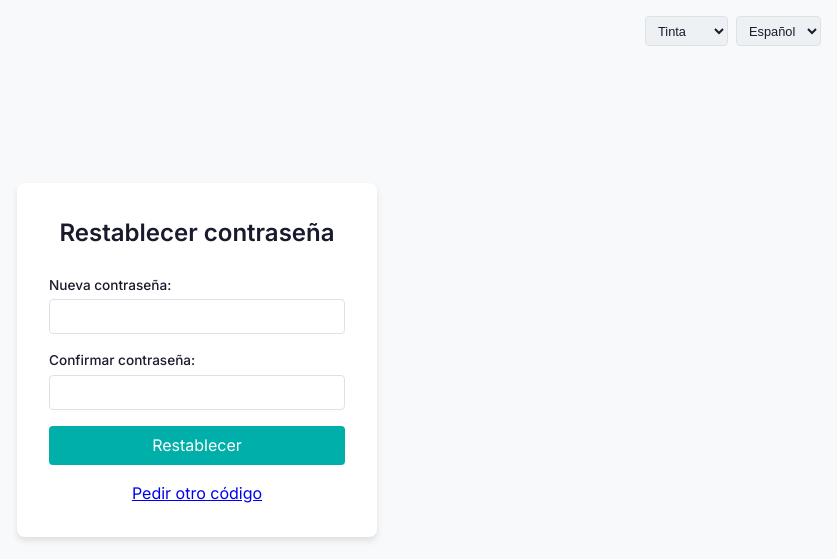
ResetPasswordPage › shows expired token error when verify returns expired message
Type "newpass9" into the password field labelled "Nueva contraseña:". click: point(197, 317)
box: top-left (49, 299), bottom-right (345, 334)
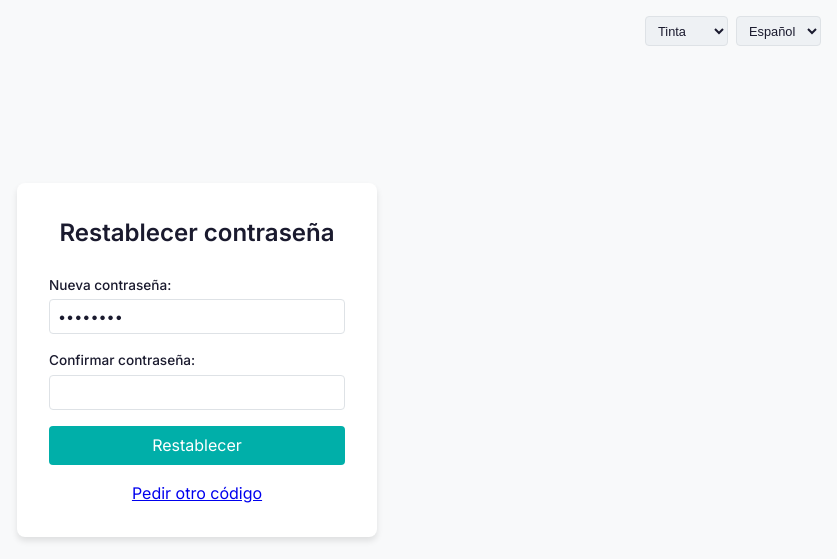
Type "newpass9" into the password field labelled "Confirmar contraseña:". click: point(197, 392)
box: top-left (49, 375), bottom-right (345, 410)
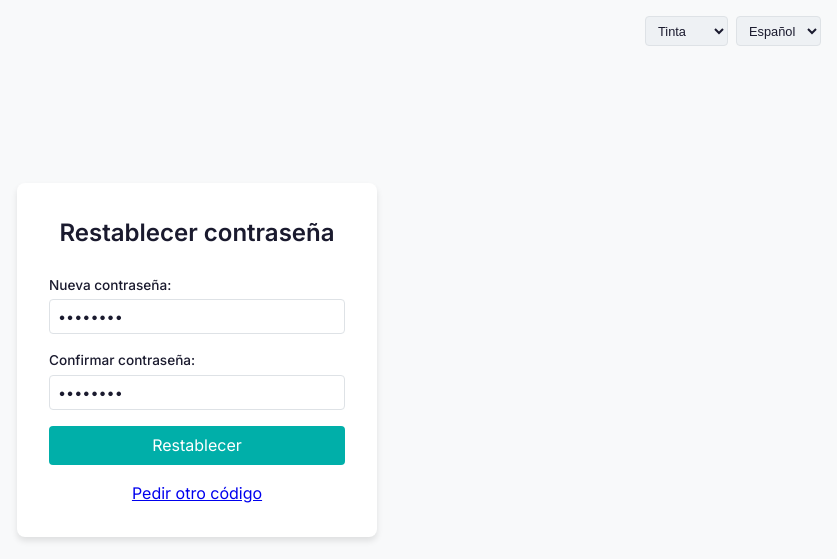
Click the button "Restablecer". click: point(197, 445)
box: top-left (49, 426), bottom-right (345, 465)
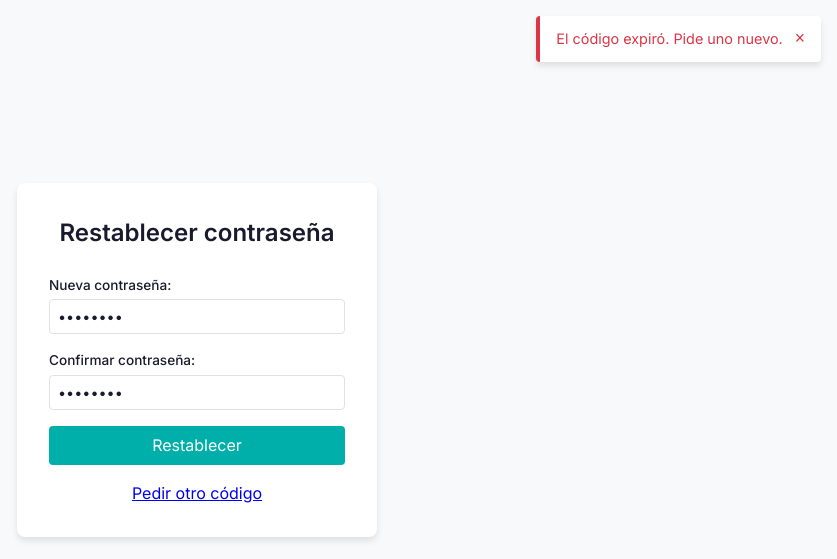
Check: the text "El código expiró. Pide uno nuevo." is shown, box top-left (556, 28), bottom-right (783, 50)
